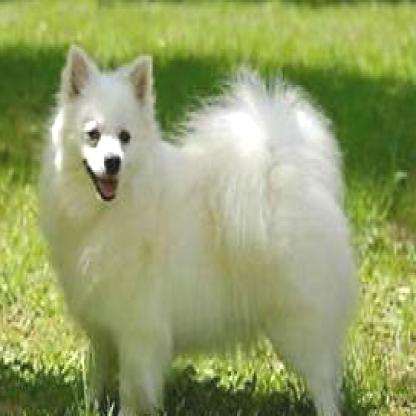dog: (38, 42, 358, 414)
